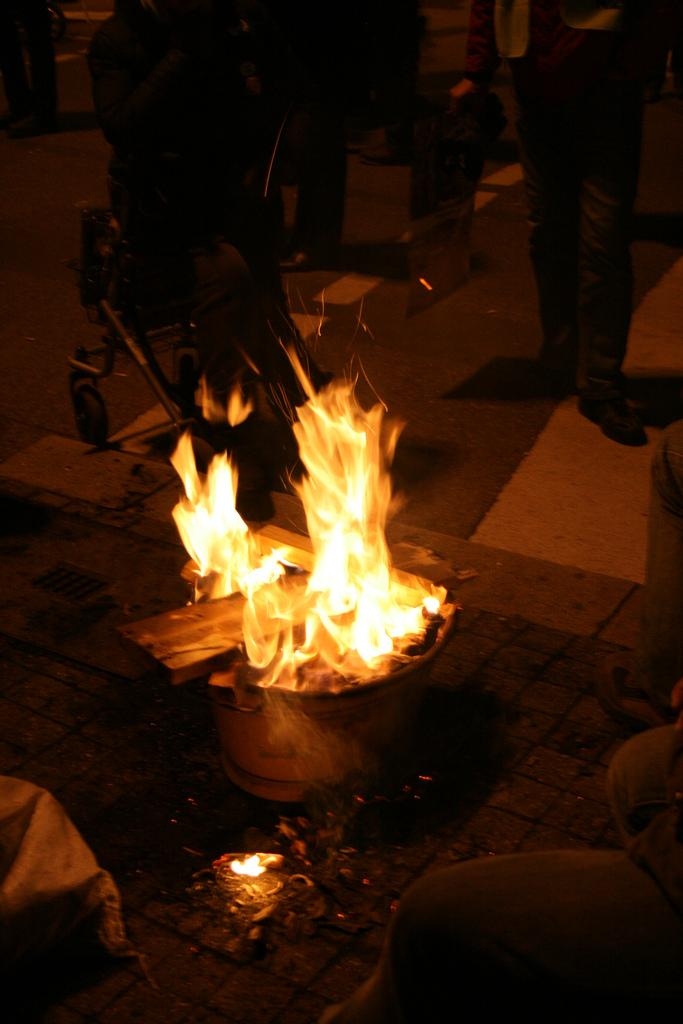fire: (298, 378, 433, 650), (170, 445, 282, 598)
